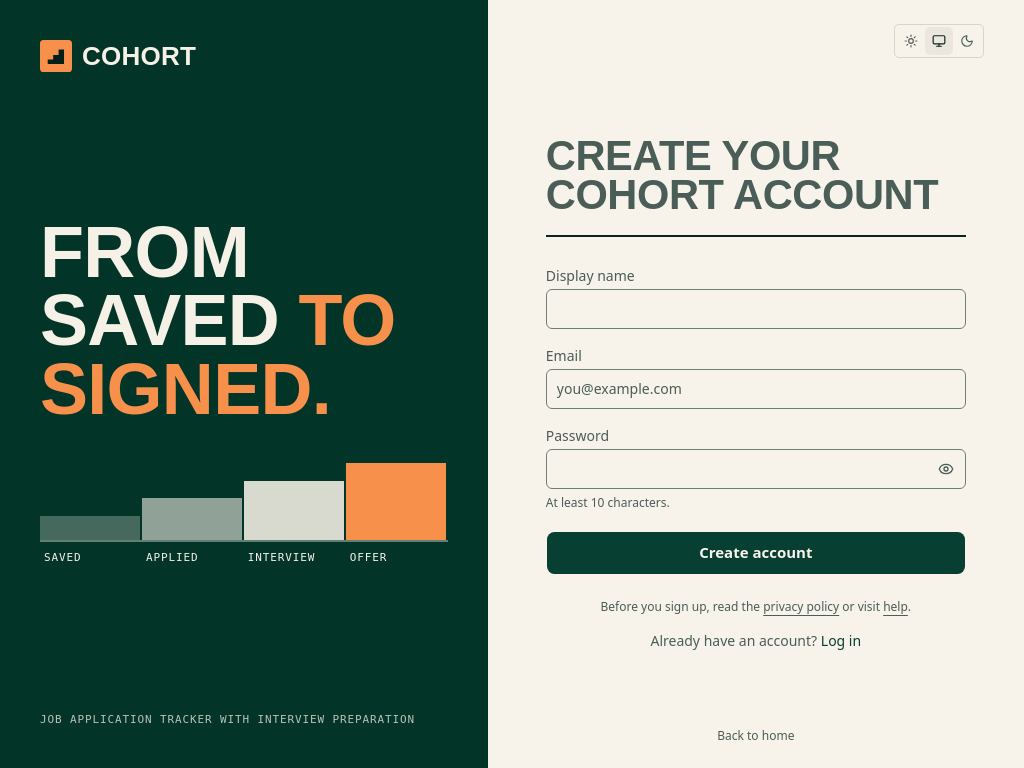
Test case: RegisterPage › maps server field errors onto the offending inputs
Type "Jane Doe" into the field labelled "Display name".
click(756, 308); type("Jane Doe")  # box [546,288,966,328]
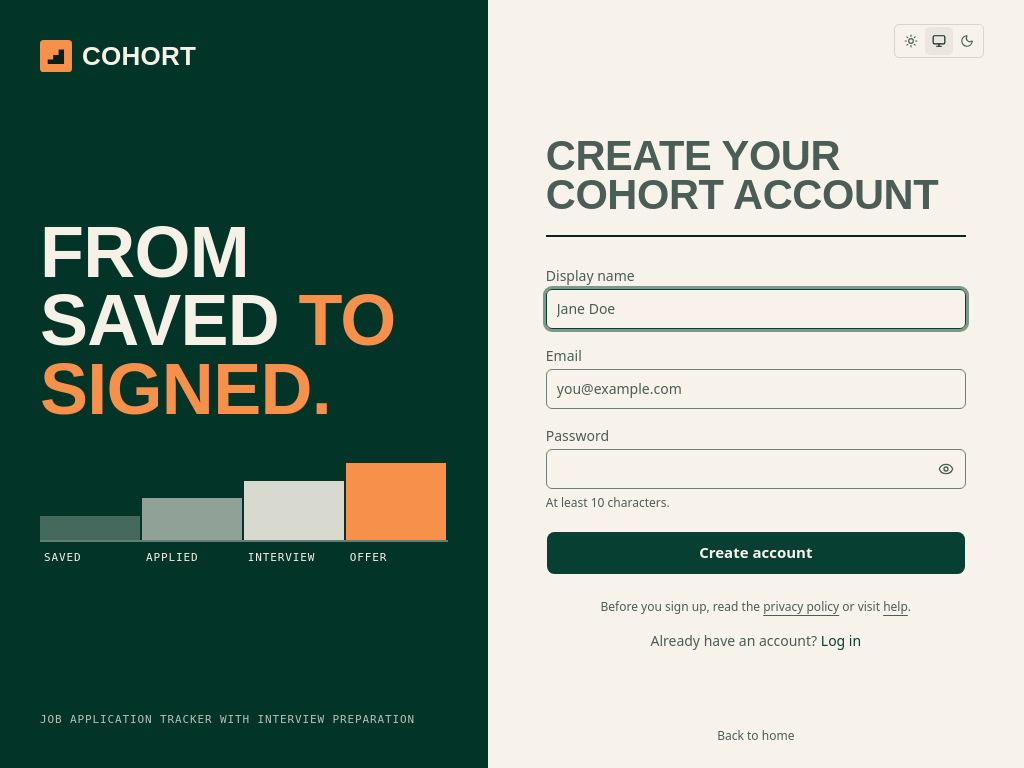
Type "jane@example.com" into the field labelled "Email".
click(756, 388); type("jane@example.com")  # box [546,368,966,408]
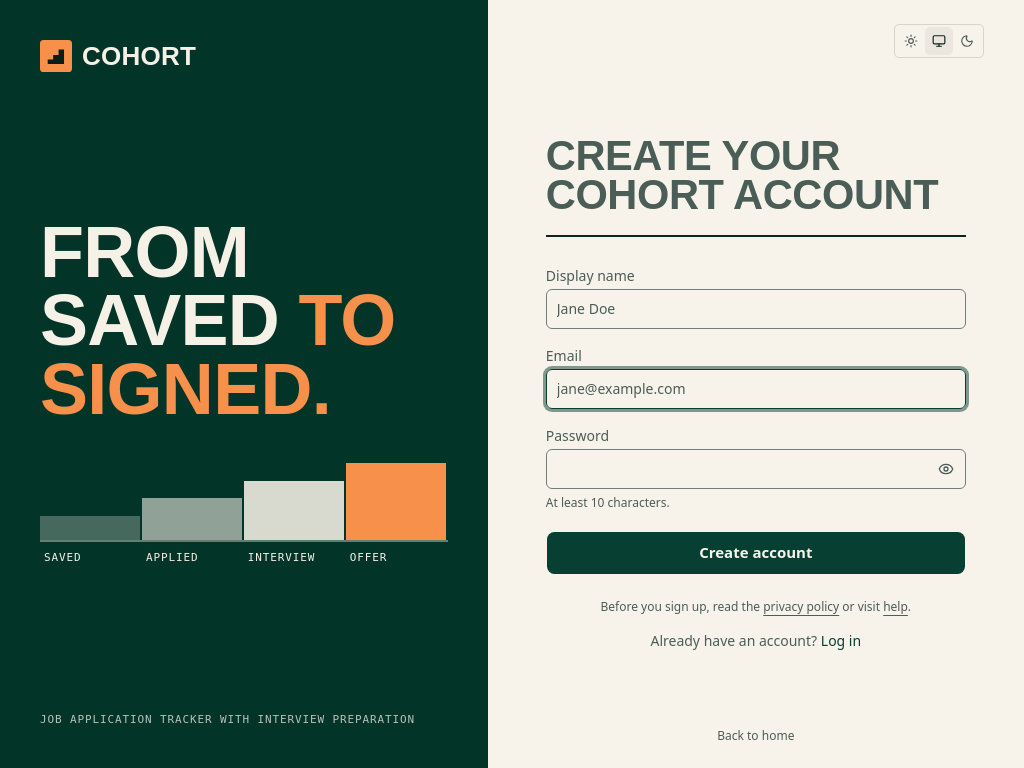
Type "passwordpassword" into the password field labelled "Password".
click(756, 468); type("passwordpassword")  # box [546,448,966,488]
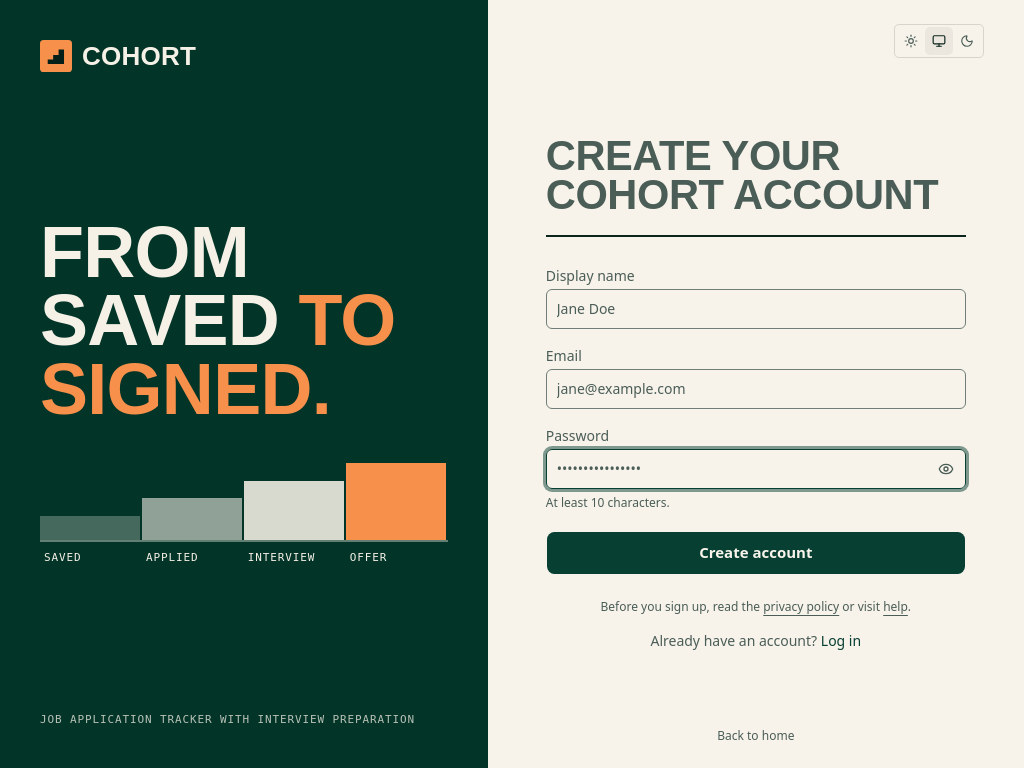
Click the button "Create account".
click(756, 552)  # box [546,530,966,574]
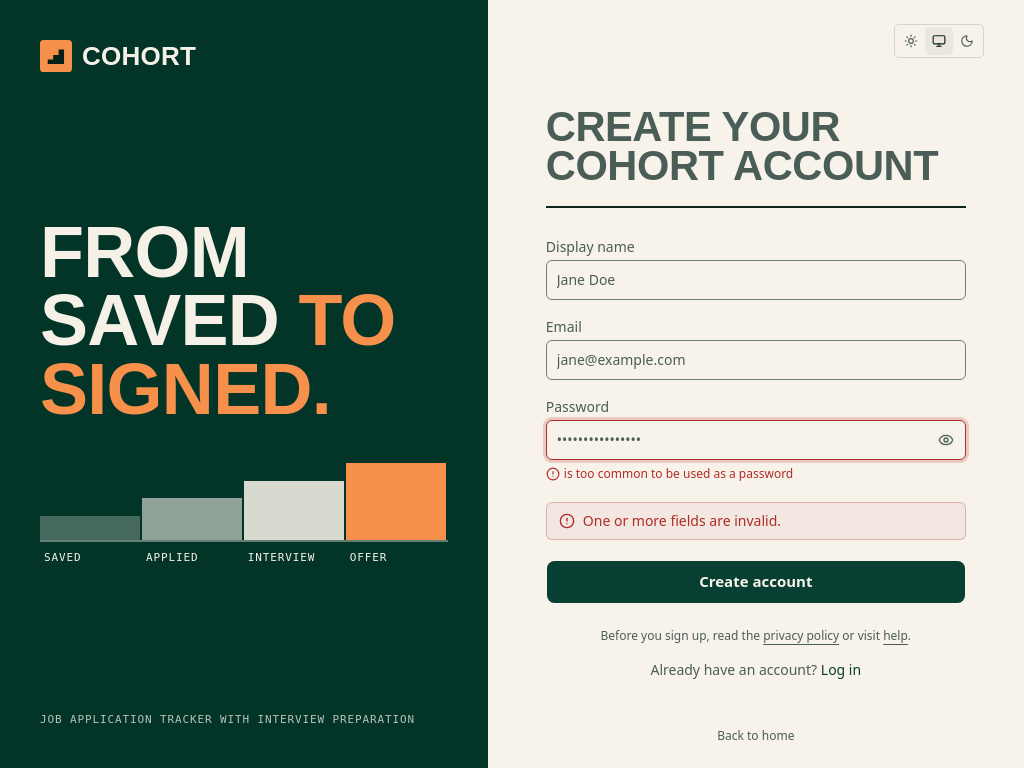
Check: the text "is too common to be used as a password" is shown, box [546,464,793,482]
